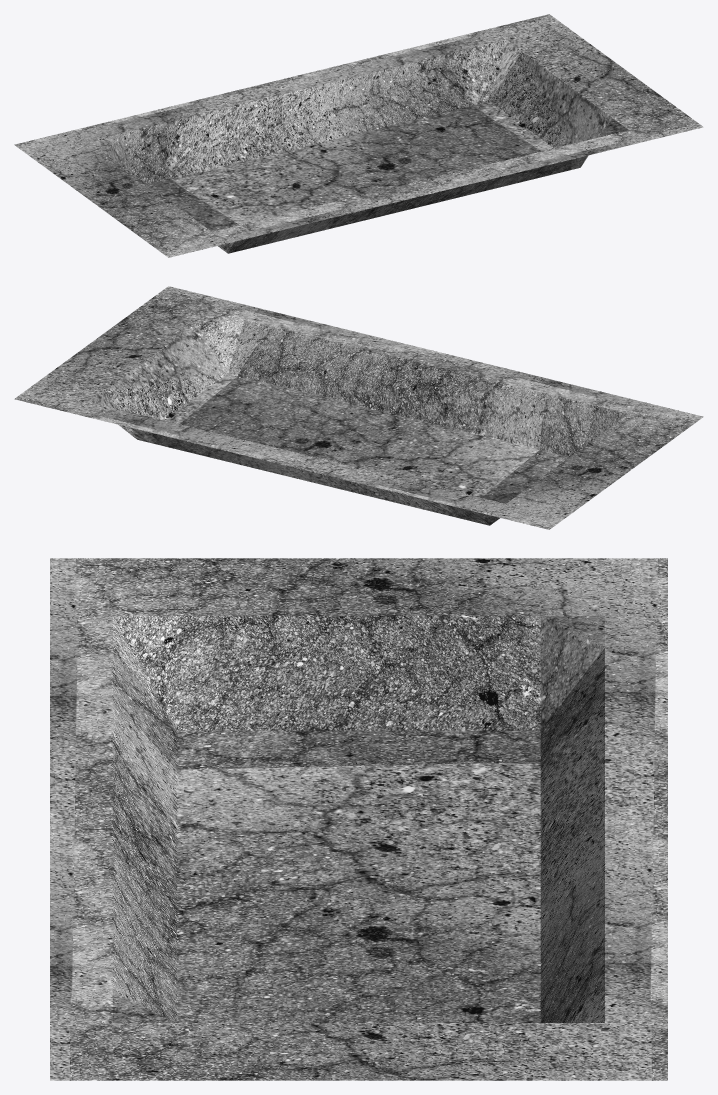
Rendered from FloorRecess.fbx.
3 views of the same model, one above another, from view 1: azimuth 30°, elevation 25°; view 2: azimuth 150°, elevation 25°; view 3: azimuth 270°, elevation 25° (orthographic). The views are drawn at different scales.
Visible parts, largest first — view 1: Floor With Hole; view 2: Floor With Hole; view 3: Floor With Hole.
Part boxes in pixels (x1,y1,x2,y2): Floor With Hole: [14, 14, 703, 257]; Floor With Hole: [14, 286, 703, 529]; Floor With Hole: [50, 558, 667, 1080].
Size of the model in its own units: 2000 by 148 by 1000.
Materials: 1 (1 with a texture image).
